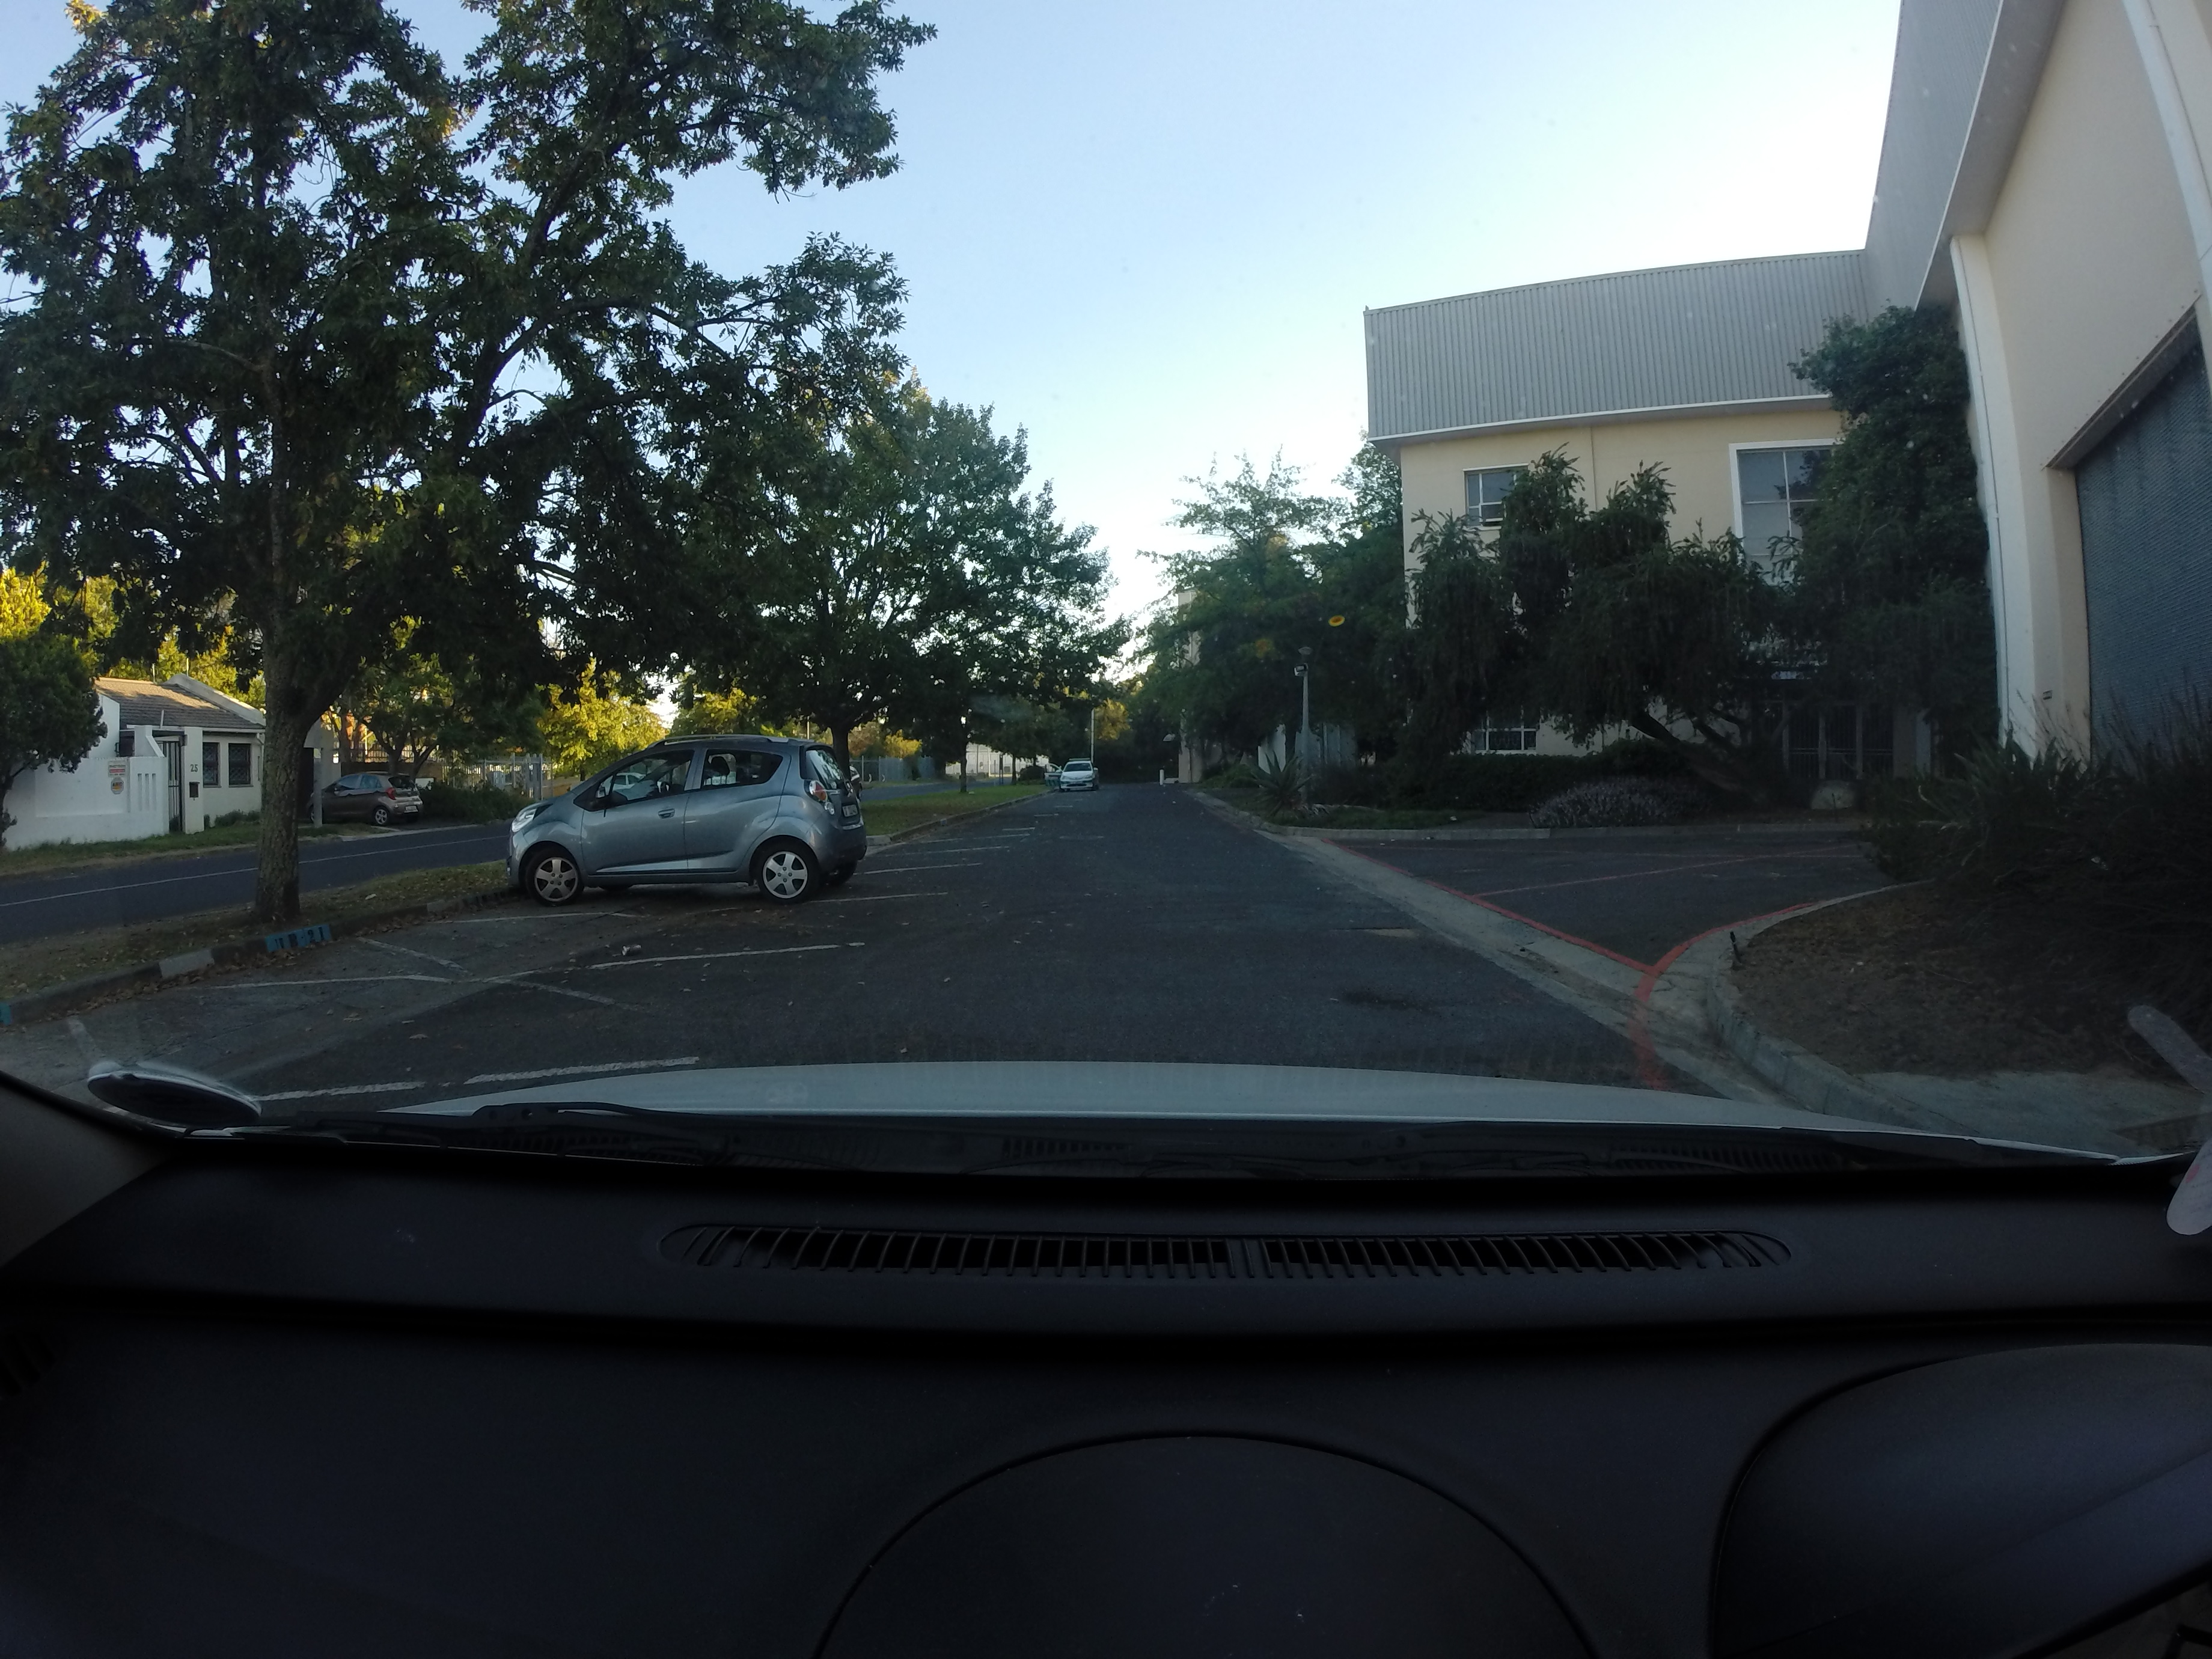pothole: (1332, 908, 1440, 945)
